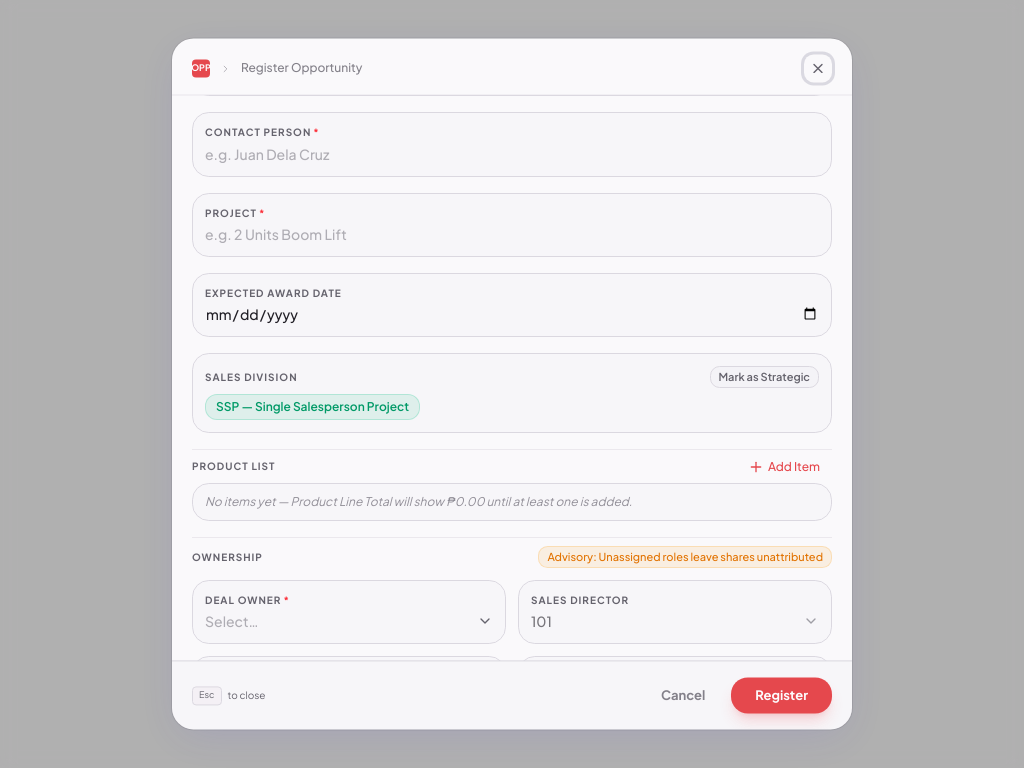
Test: OpportunityFormModal — Project Type Auto-derivation & Strategic Toggle › unsets Strategic back to auto-derived SSP when clicked again
The image size is (1024, 768).
(page scrolled)
Expected: the text "101" is shown, x1=531 y1=612 x2=552 y2=632
Click the button "Mark as Strategic" at (764, 378), box x1=710 y1=367 x2=819 y2=388
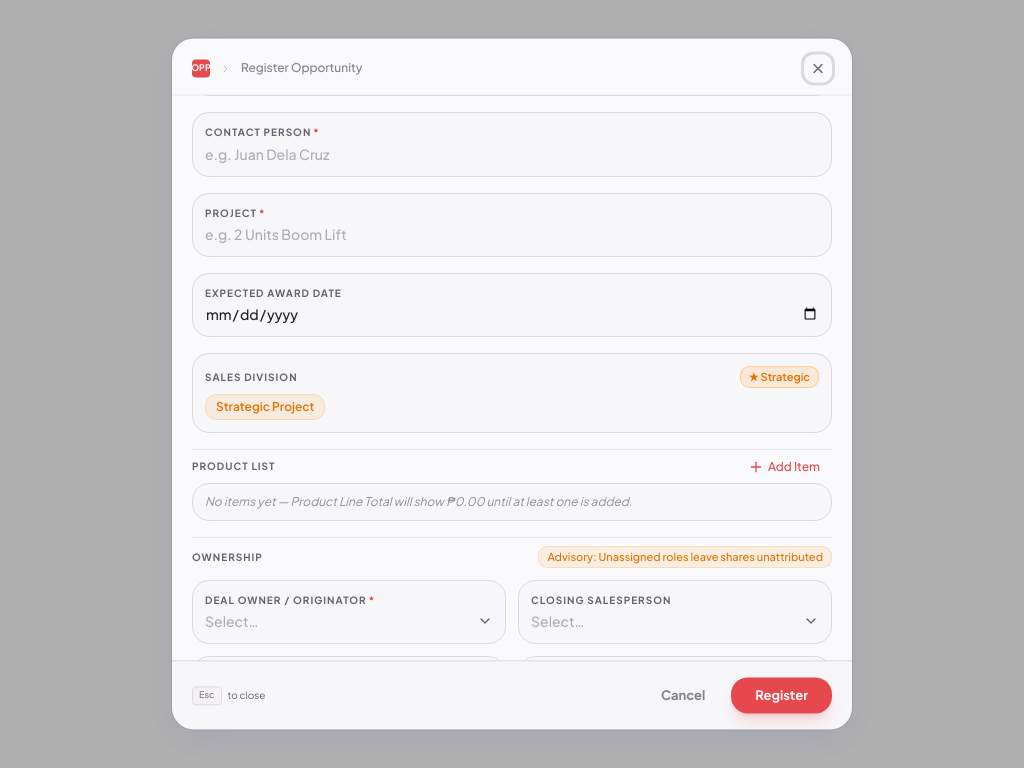
Expected: the text with test id "project-type-badge" reads "Strategic Project", x1=216 y1=399 x2=314 y2=414
// Click again to unset
Click the button "★ Strategic" at (779, 378), box x1=740 y1=367 x2=819 y2=388
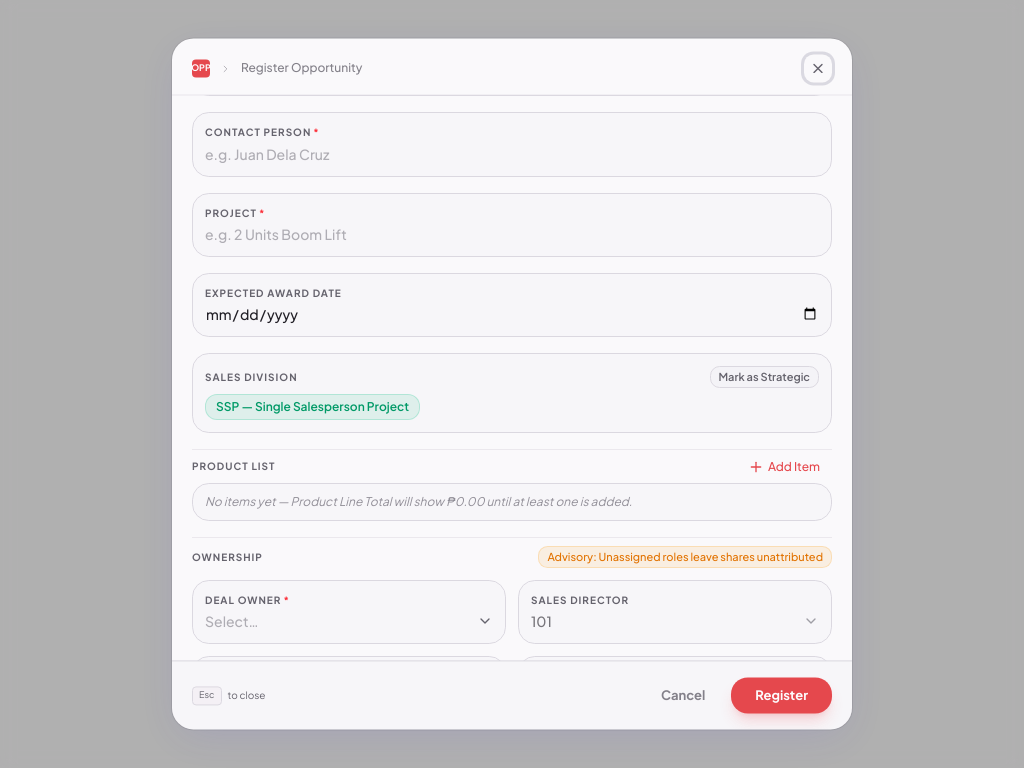
Expected: the text with test id "project-type-badge" reads "SSP — Single Salesperson Project", x1=216 y1=399 x2=409 y2=414
